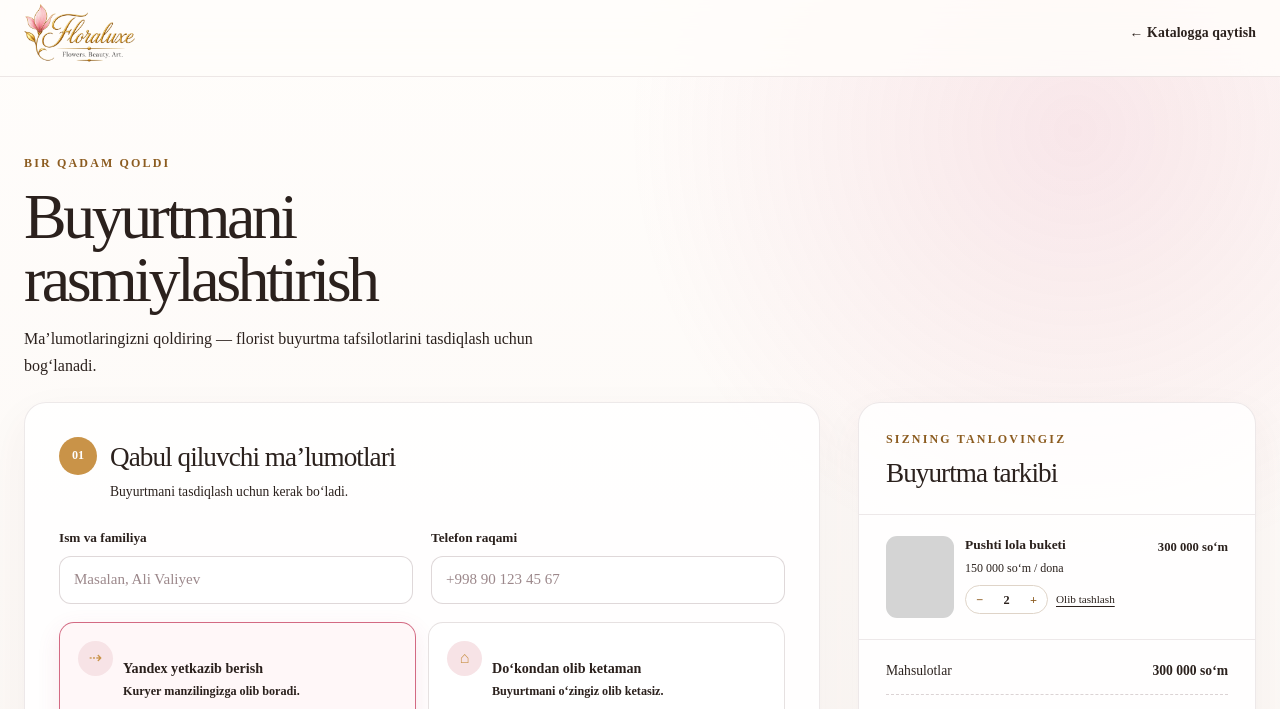
Test case: CheckoutClient › submits only customer data and cart lines, then clears the browser cart after success
expect the heading "Pushti lola buketi" is shown: met, box [965,537,1066,552]
Type "Ali Valiyev" into the field labelled "Ism va familiya" at [236, 580], box [59,556,413,604]
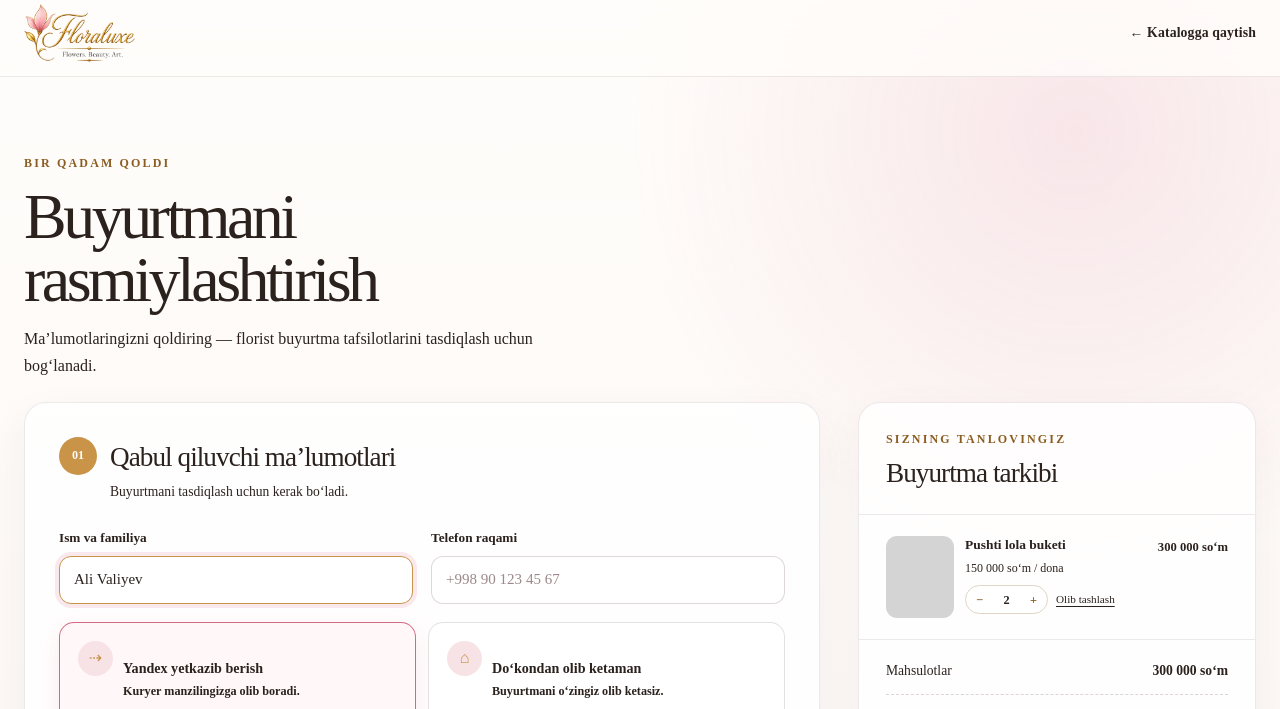
Type "+998901234567" into the field labelled "Telefon raqami" at [608, 580], box [431,556,785,604]
(page scrolled)
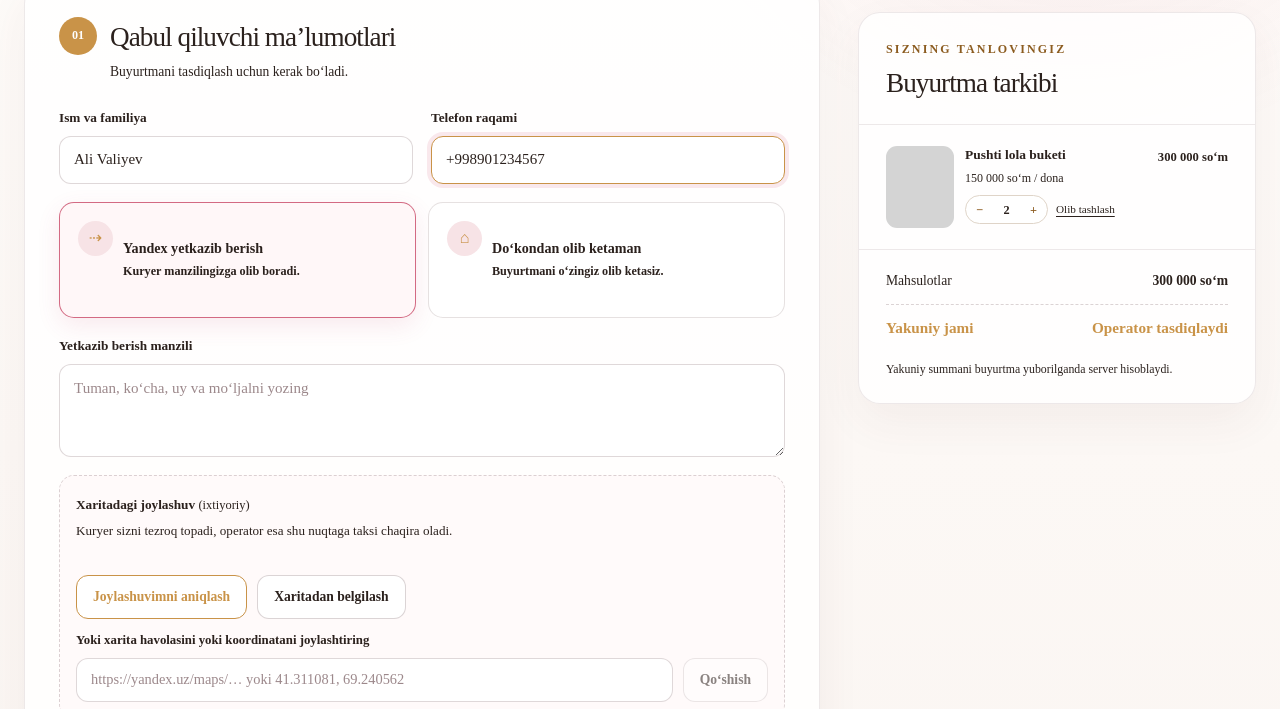
Type "Toshkent shahri, Chilonzor tumani" into the text box labelled "Yetkazib berish manzili" at [422, 410], box [59,364,785,457]
(page scrolled)
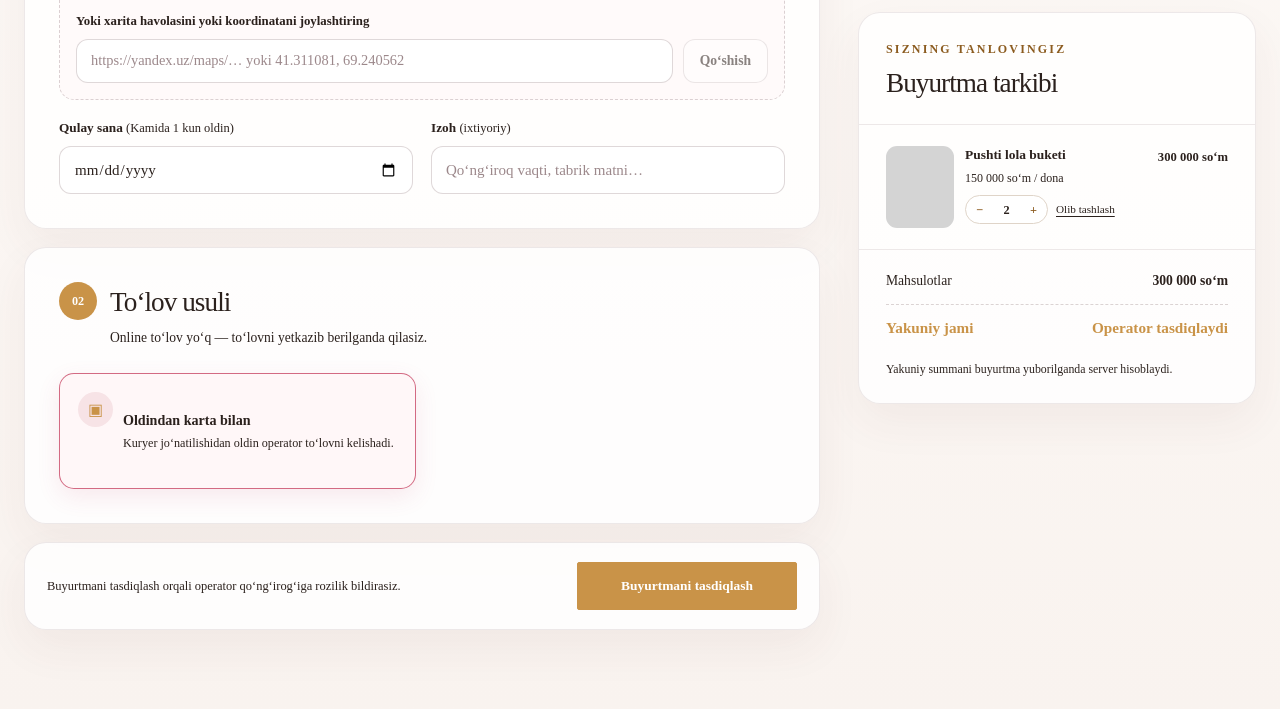
Click the button "Buyurtmani tasdiqlash" at [687, 586], box [577,562,797,610]
(page scrolled)
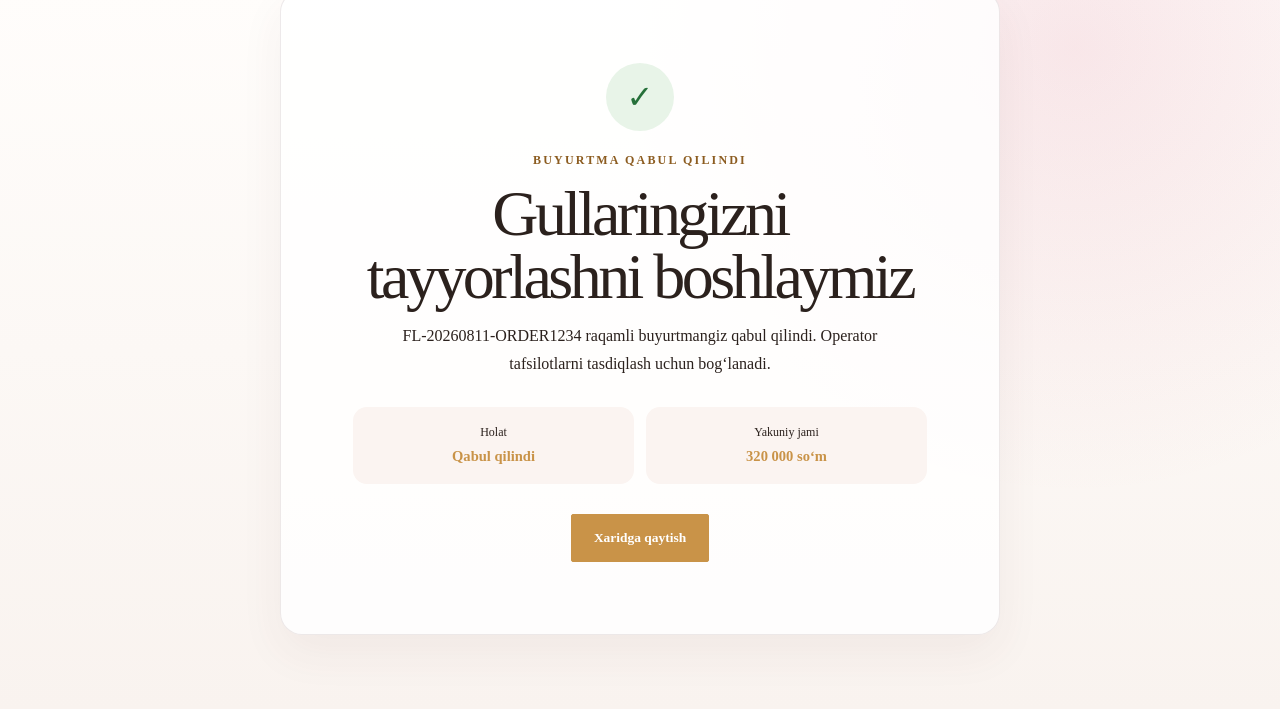
expect the text "buyurtmangiz qabul qilindi" is shown: met, box [402,327,877,372]
expect the text "Operator tasdiqlaydi" is gone: met
